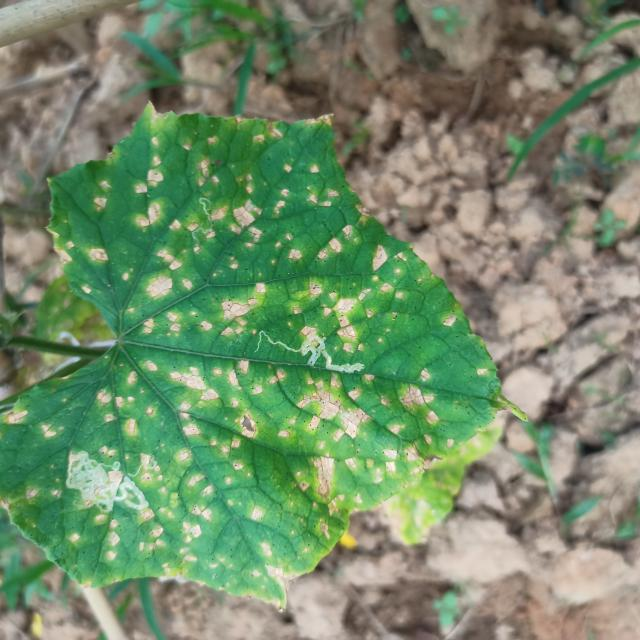disease_cucumber: (12, 134, 449, 578)
